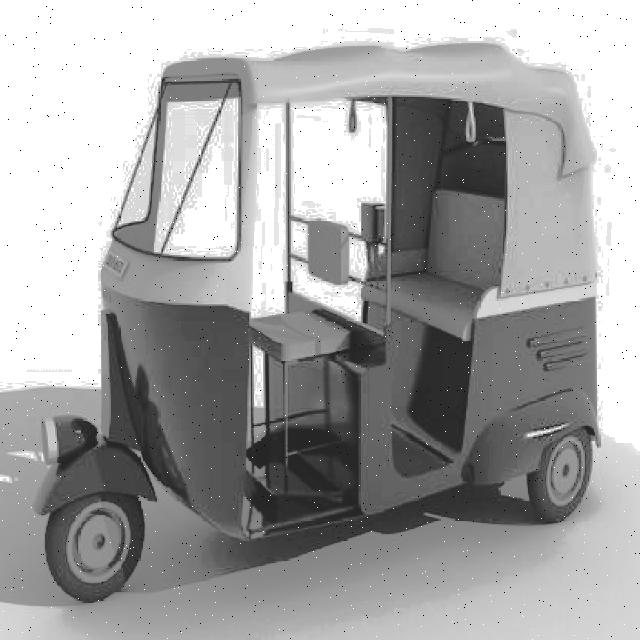Auto-Rickshaw: (36, 32, 600, 601)
